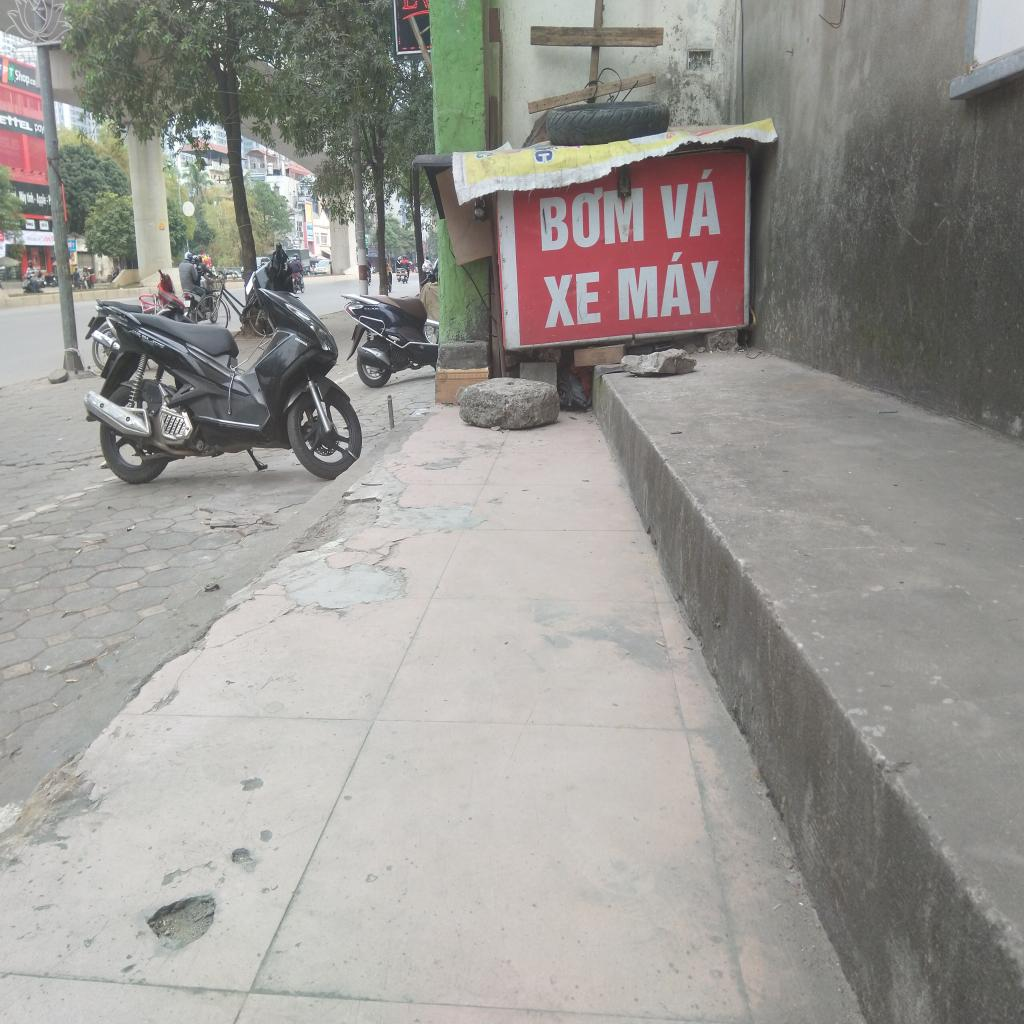text: (615, 248, 721, 326), (537, 180, 647, 254), (654, 167, 726, 240), (540, 265, 604, 332), (0, 111, 33, 132), (140, 334, 166, 352), (14, 67, 30, 87), (1, 135, 20, 150), (534, 149, 554, 163), (36, 191, 46, 208), (295, 336, 309, 347), (34, 123, 45, 135), (129, 328, 142, 338), (19, 190, 27, 205), (27, 190, 35, 204), (40, 236, 55, 243), (363, 307, 380, 312), (2, 64, 8, 76), (8, 68, 14, 78), (30, 78, 36, 87), (48, 194, 51, 206), (72, 242, 75, 248)
